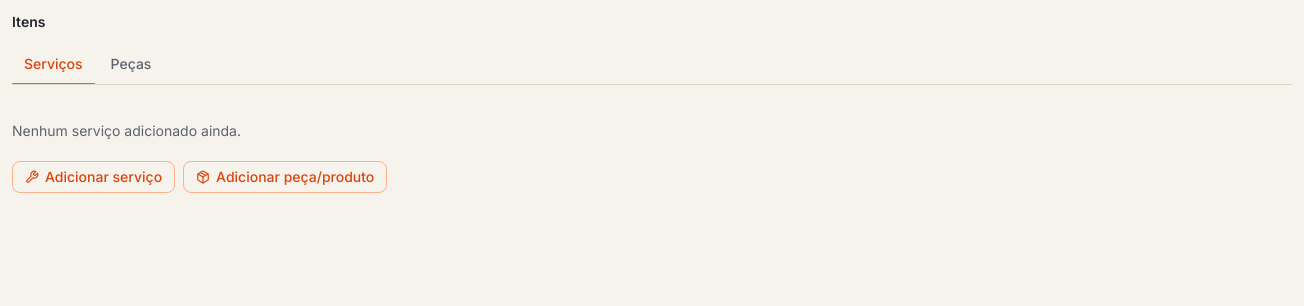
ItemsEditor — serviço cobrado pela hora técnica por categoria › prices a new service as valorHora(categoria do veículo) × tempo mínimo, rounded up, never a fixed catalog price
Click the button "Adicionar serviço". click: (94, 177)
box: [12, 161, 175, 193]
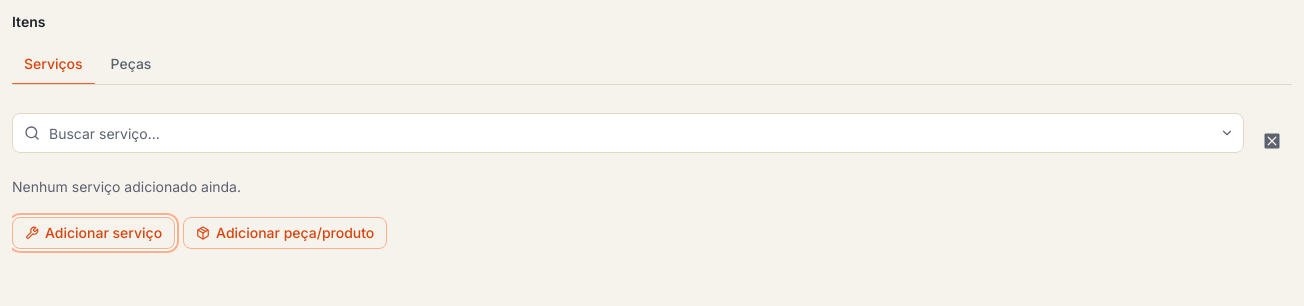
Click the field. click: (628, 133)
box: [12, 113, 1244, 153]
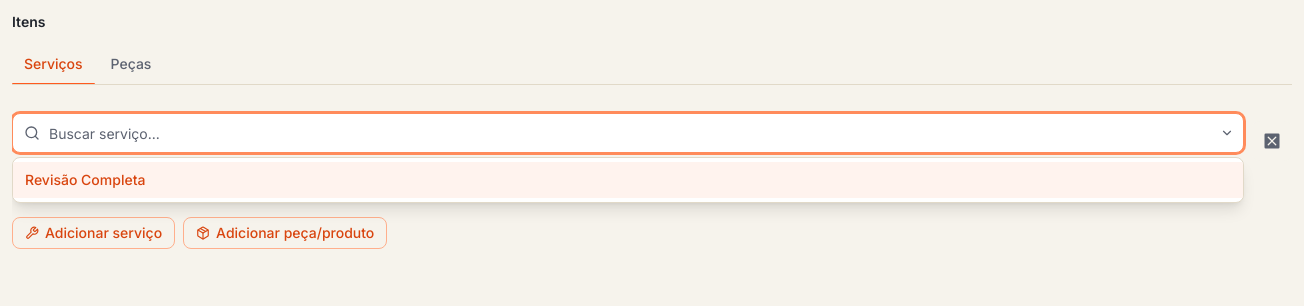
Click the button "Revisão Completa". click: (85, 180)
box: [13, 162, 1243, 198]
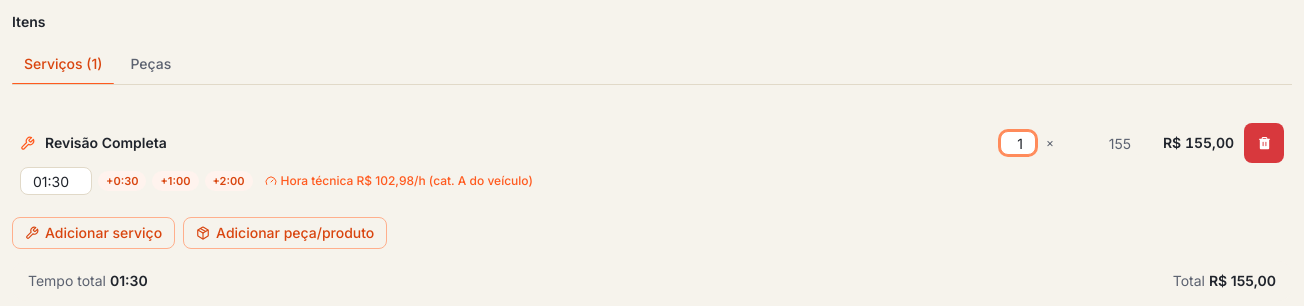
Check: the number field named "Valor unitário" holds "155", box [1064, 131, 1144, 155]
Check: the text "Hora técnica R$ 102,98/h (cat. A do veículo)" is shown, box [264, 173, 533, 189]
